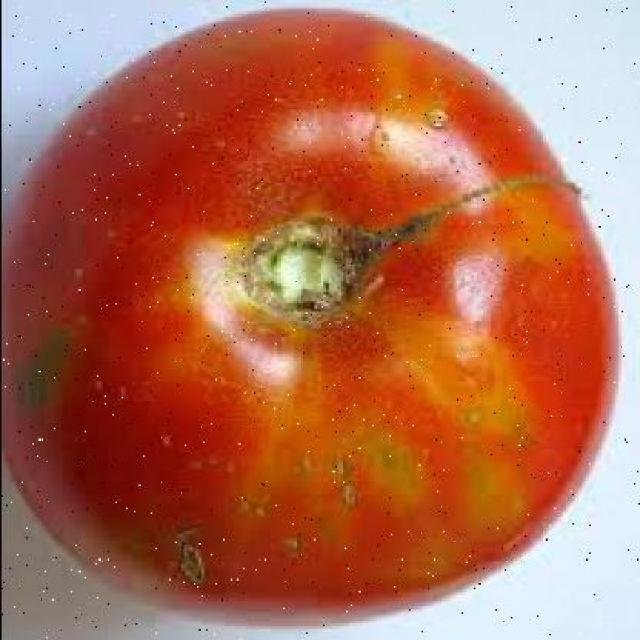tomato: (0, 6, 622, 627)
